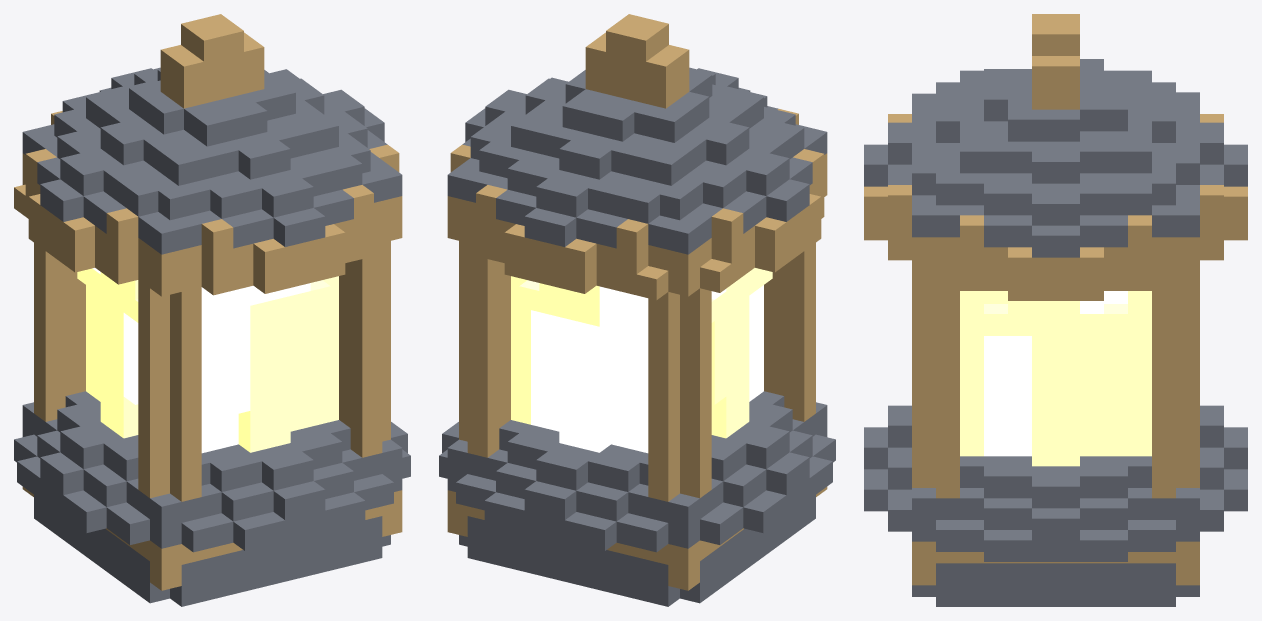
Rendered from crystal_lantern.glb.
3 renders of one model, left to right at view 1: azimuth 30°, elevation 25°; view 2: azimuth 150°, elevation 25°; view 3: azimuth 270°, elevation 25°, orthographic. The views are drawn at different scales.
Size of the model in its own units: 0.6667 by 1 by 0.6667.
